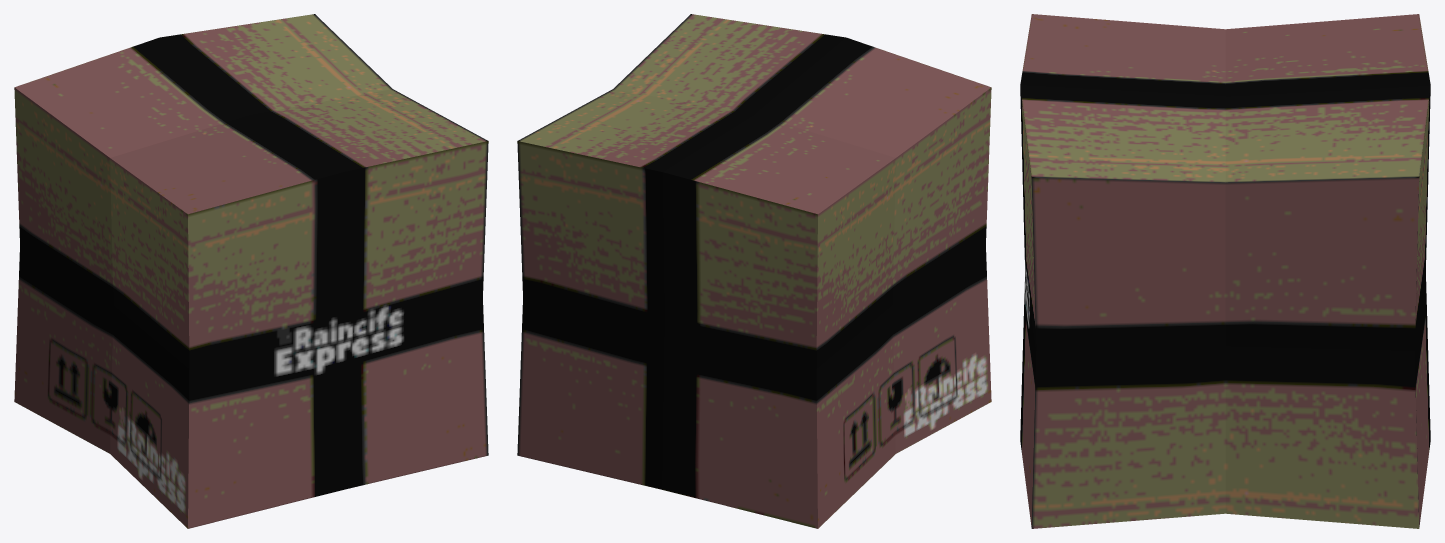
The model's file is Caixa_2.fbx.
3 renders of one model, left to right at view 1: azimuth 30°, elevation 25°; view 2: azimuth 150°, elevation 25°; view 3: azimuth 270°, elevation 25°, orthographic. The views are drawn at different scales.
Parts seen in each view (by area): view 1: Cube.001; view 2: Cube.001; view 3: Cube.001.
Part boxes in pixels (bbox=[...]): Cube.001: bbox=[14, 14, 488, 528]; Cube.001: bbox=[517, 14, 991, 528]; Cube.001: bbox=[1020, 14, 1430, 528].
Size of the model in its own units: 95.69 by 98.54 by 101.
1 material, 1 textured.
